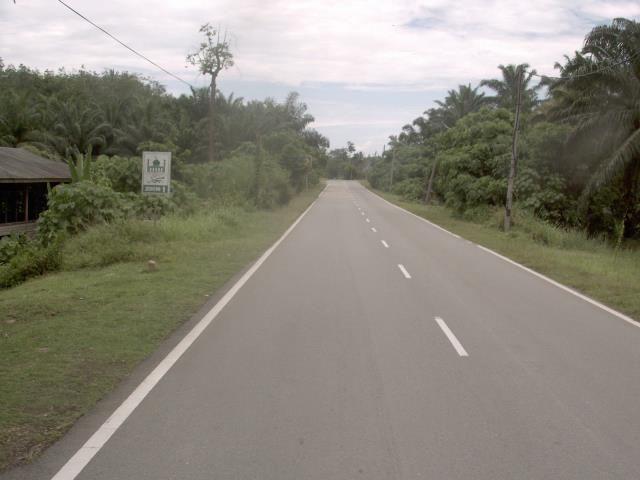ads_sign: (135, 143, 178, 202)
